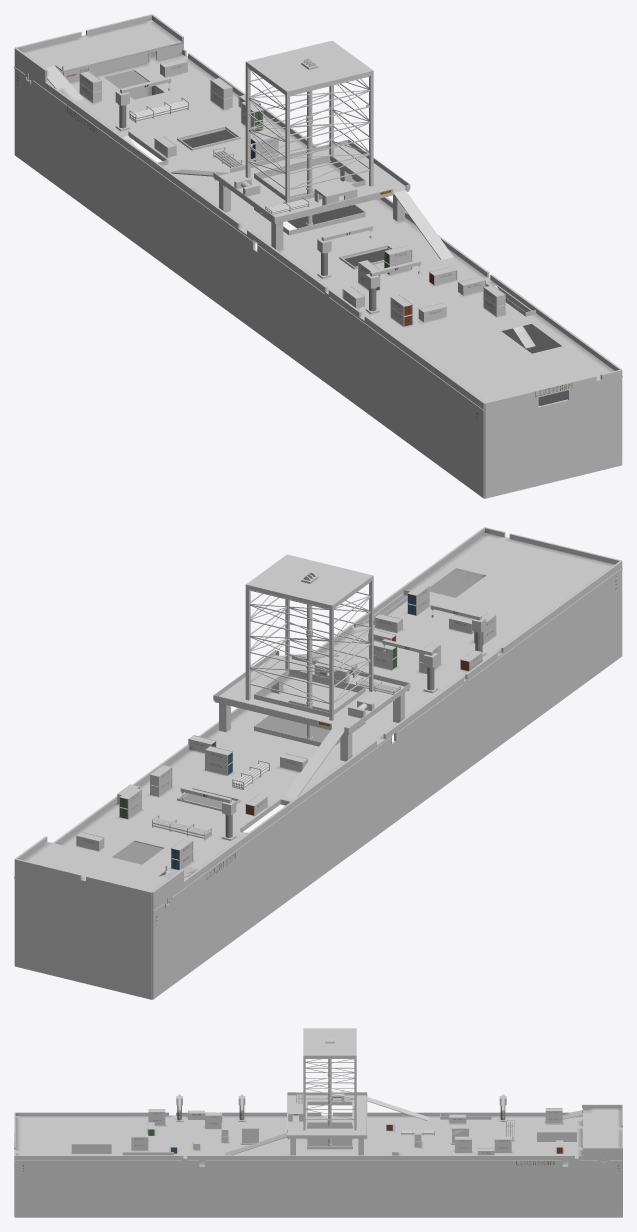
File: leviathan_hull.glb
3 views of the same model, one above another, from view 1: azimuth 30°, elevation 25°; view 2: azimuth 150°, elevation 25°; view 3: azimuth 270°, elevation 25° (orthographic). The views are drawn at different scales.
Visible parts, largest first — view 1: leviathan_hull; view 2: leviathan_hull; view 3: leviathan_hull.
Part boxes in pixels (x1=…): leviathan_hull: x1=14, y1=14, x2=622, y2=498; leviathan_hull: x1=14, y1=527, x2=622, y2=999; leviathan_hull: x1=14, y1=1028, x2=622, y2=1217.
Size of the model in its own units: 37.06 by 61.15 by 215.
Materials: 3 (2 with a texture image).
